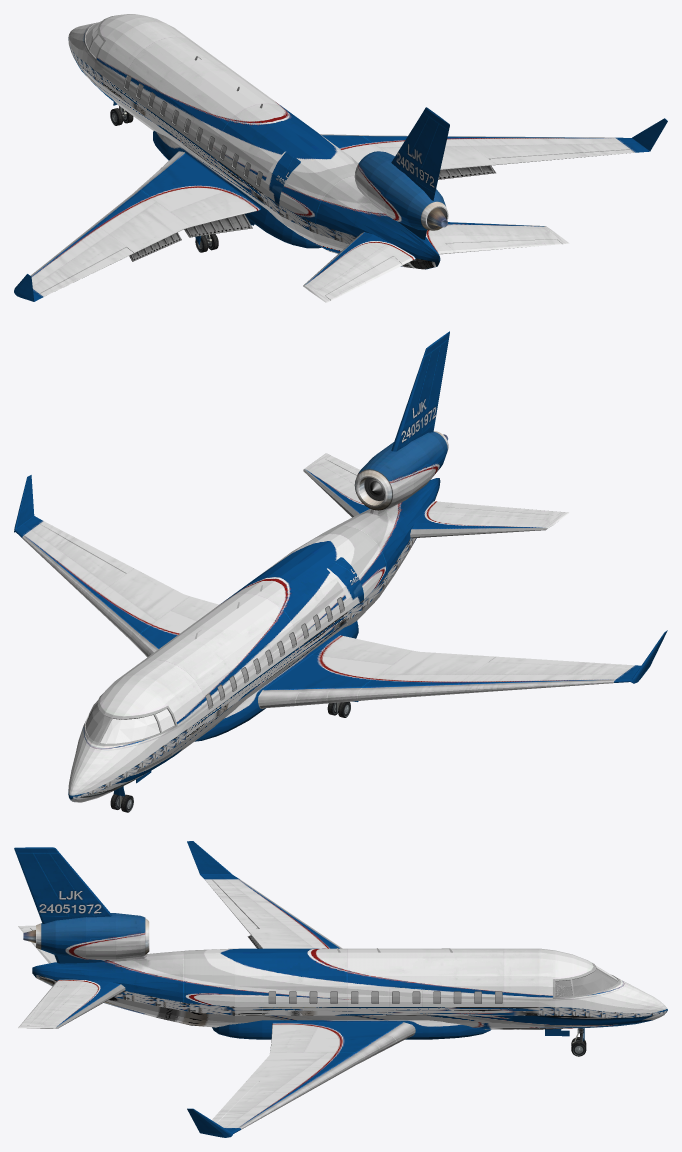
The picture shows the model from 3 angles, top to bottom: view 1: azimuth 30°, elevation 25°; view 2: azimuth 150°, elevation 25°; view 3: azimuth 270°, elevation 25°; orthographic projection. The views are drawn at different scales.
Parts seen in each view (by area): view 1: Mesh_0, Mesh_6, Mesh_9; view 2: Mesh_0, Mesh_9, Mesh_6; view 3: Mesh_0, Mesh_9.
Part boxes in pixels (x1,y1,x2,y2): Mesh_0: (14,14,667,302); Mesh_6: (263,151,300,220); Mesh_9: (85,20,262,185); Mesh_0: (14,331,667,812); Mesh_9: (85,598,343,743); Mesh_6: (326,557,364,625); Mesh_0: (14,841,667,1137); Mesh_9: (269,966,617,1003).
Size of the model in its own units: 65.8 by 23.6 by 67.84.
Materials: 10 (8 with a texture image).
